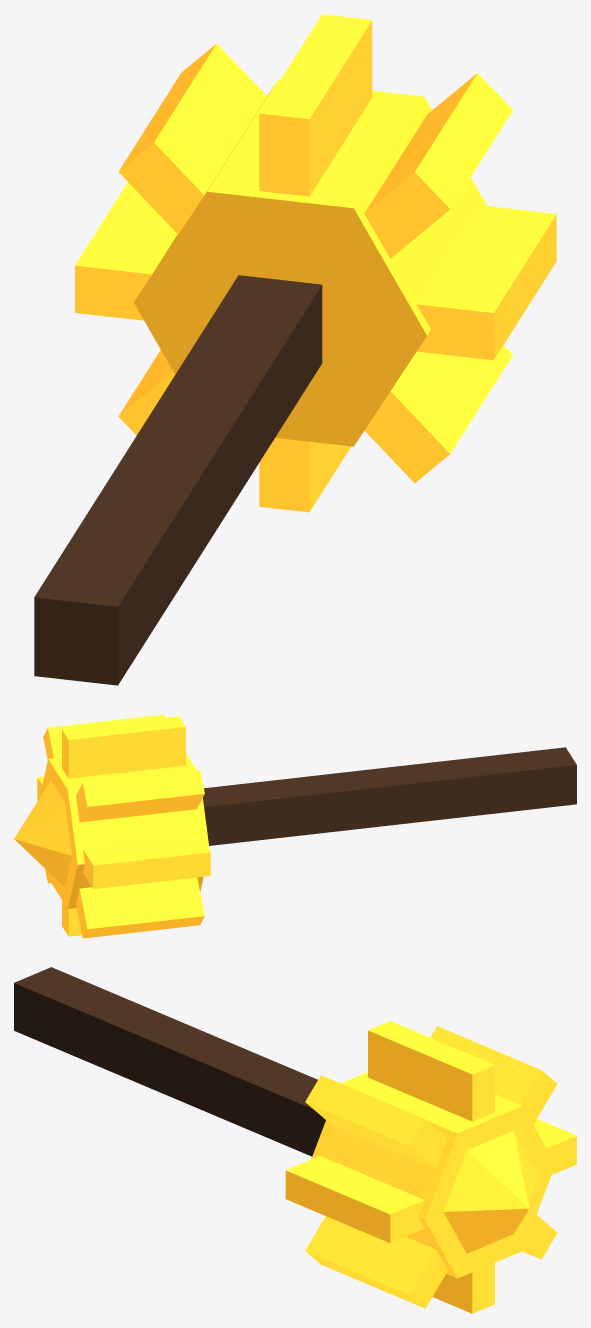
The model's file is blessed_mace.glb.
The picture shows the model from 3 angles, top to bottom: view 1: azimuth 30°, elevation 25°; view 2: azimuth 150°, elevation 25°; view 3: azimuth 270°, elevation 25°; orthographic projection. The views are drawn at different scales.
Visible parts, largest first — view 1: blessed_mace; view 2: blessed_mace; view 3: blessed_mace.
Boxes of the visible parts, x1,y1,x2,y2 form: blessed_mace: (34,14,556,685); blessed_mace: (14,714,576,938); blessed_mace: (14,967,576,1313).
Size of the model in its own units: 0.7995 by 0.375 by 0.7995.
